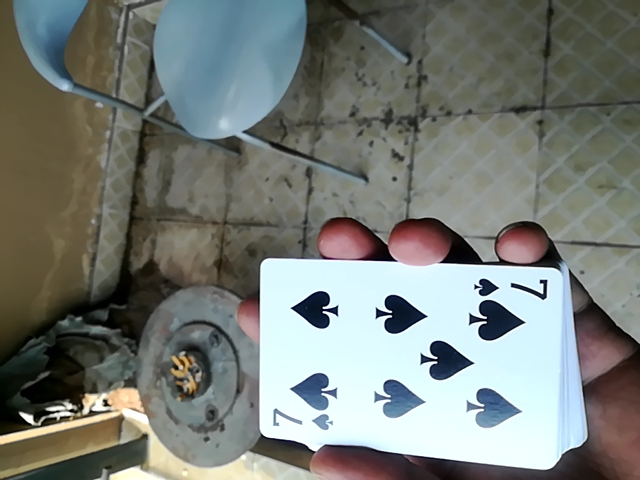ht 7: (247, 249, 577, 475)
